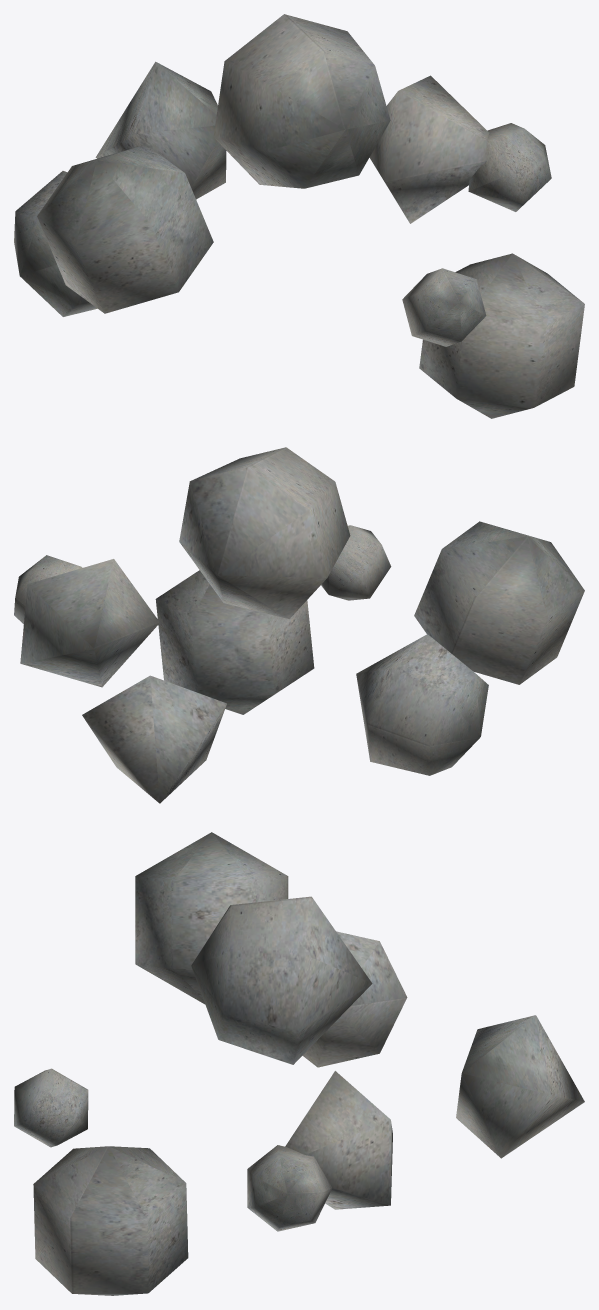
The model's file is stone2.obj.
The picture shows the model from 3 angles, top to bottom: view 1: azimuth 30°, elevation 25°; view 2: azimuth 150°, elevation 25°; view 3: azimuth 270°, elevation 25°; orthographic projection. The views are drawn at different scales.
Parts seen in each view (by area): view 1: Sphere005, Sphere001, Sphere008, Sphere003, Sphere007, Sphere006, Sphere002, Sphere004; view 2: Sphere005, Sphere001, Sphere008, Sphere004, Sphere003, Sphere007, Sphere002, Sphere006; view 3: Sphere005, Sphere008, Sphere001, Sphere007, Sphere003, Sphere004, Sphere006, Sphere002.
Part boxes in pixels (box(x1,y1,x2,y2)): Sphere005: box(213, 14, 390, 188); Sphere001: box(37, 144, 213, 313); Sphere008: box(419, 253, 584, 418); Sphere003: box(369, 75, 489, 223); Sphere007: box(95, 61, 226, 199); Sphere006: box(468, 123, 551, 211); Sphere002: box(402, 268, 486, 346); Sphere004: box(14, 171, 97, 316); Sphere005: box(179, 447, 350, 618); Sphere001: box(414, 521, 584, 684); Sphere008: box(155, 570, 314, 714); Sphere004: box(356, 634, 488, 775); Sphere003: box(20, 559, 159, 687); Sphere007: box(82, 675, 226, 803); Sphere002: box(321, 525, 391, 600); Sphere006: box(14, 555, 82, 624); Sphere005: box(191, 896, 372, 1064); Sphere008: box(33, 1146, 188, 1295); Sphere001: box(135, 832, 288, 1004); Sphere007: box(456, 1015, 584, 1158); Sphere003: box(285, 1071, 392, 1209); Sphere004: box(302, 931, 407, 1067); Sphere006: box(247, 1145, 332, 1231); Sphere002: box(14, 1068, 88, 1147).
Size of the model in its own units: 97.24 by 62.79 by 93.15.
1 material, 1 textured.
